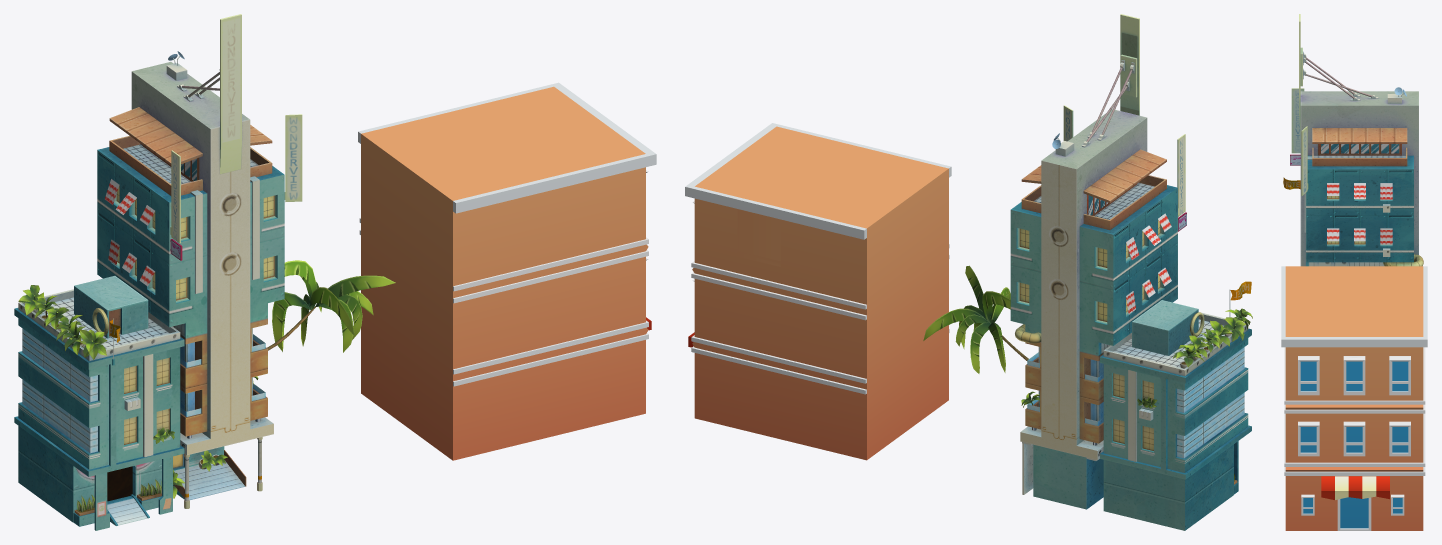
File: buildings.fbx
The picture shows the model from 3 angles, left to right: view 1: azimuth 30°, elevation 25°; view 2: azimuth 150°, elevation 25°; view 3: azimuth 270°, elevation 25°; orthographic projection. The views are drawn at different scales.
Visible parts, largest first — view 1: polySurface26_04 - Default_0, Cube.002_Material_0; view 2: polySurface26_04 - Default_0, Cube.002_Material_0; view 3: Cube.002_Material_0, polySurface26_04 - Default_0.
Part boxes in pixels (x1=…): polySurface26_04 - Default_0: x1=14, y1=14, x2=395, y2=530; Cube.002_Material_0: x1=358, y1=82, x2=656, y2=460; polySurface26_04 - Default_0: x1=923, y1=14, x2=1252, y2=530; Cube.002_Material_0: x1=685, y1=123, x2=951, y2=460; Cube.002_Material_0: x1=1281, y1=266, x2=1427, y2=530; polySurface26_04 - Default_0: x1=1283, y1=14, x2=1423, y2=266.
Size of the model in its own units: 1463 by 1174 by 426.
Materials: 4 (4 with a texture image).
